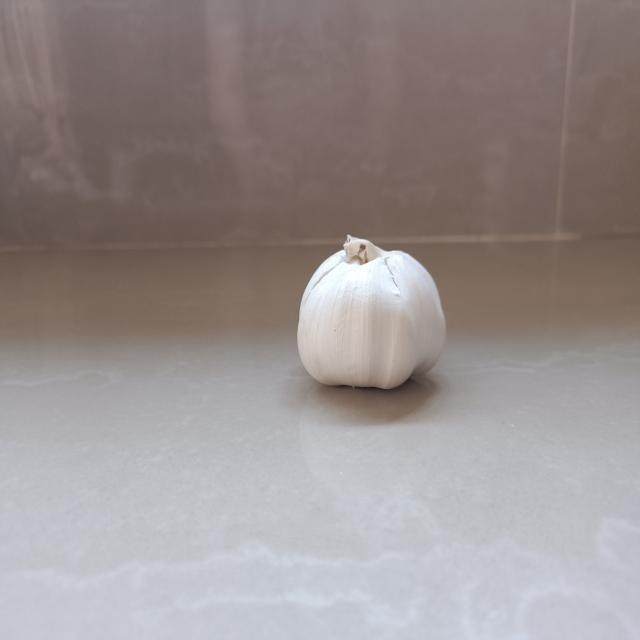garlic: (294, 233, 452, 394)
